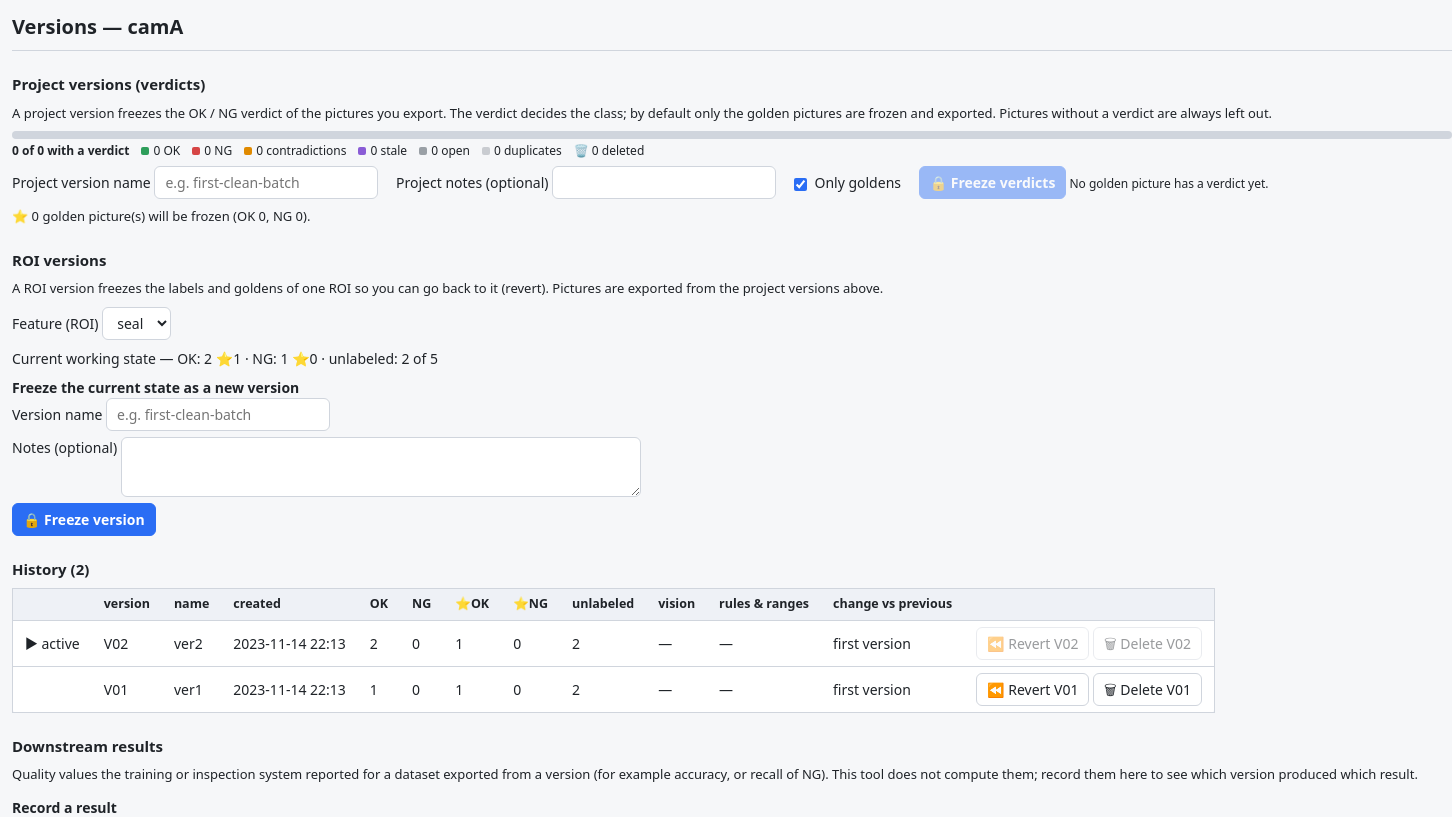
freeze posts feature, name and notes and reloads
expect the heading "History (2)" is shown: met, box x1=12 y1=558 x2=89 y2=578
Type "batch1" into the field labelled "Version name" at (218, 414), box x1=106 y1=398 x2=330 y2=430
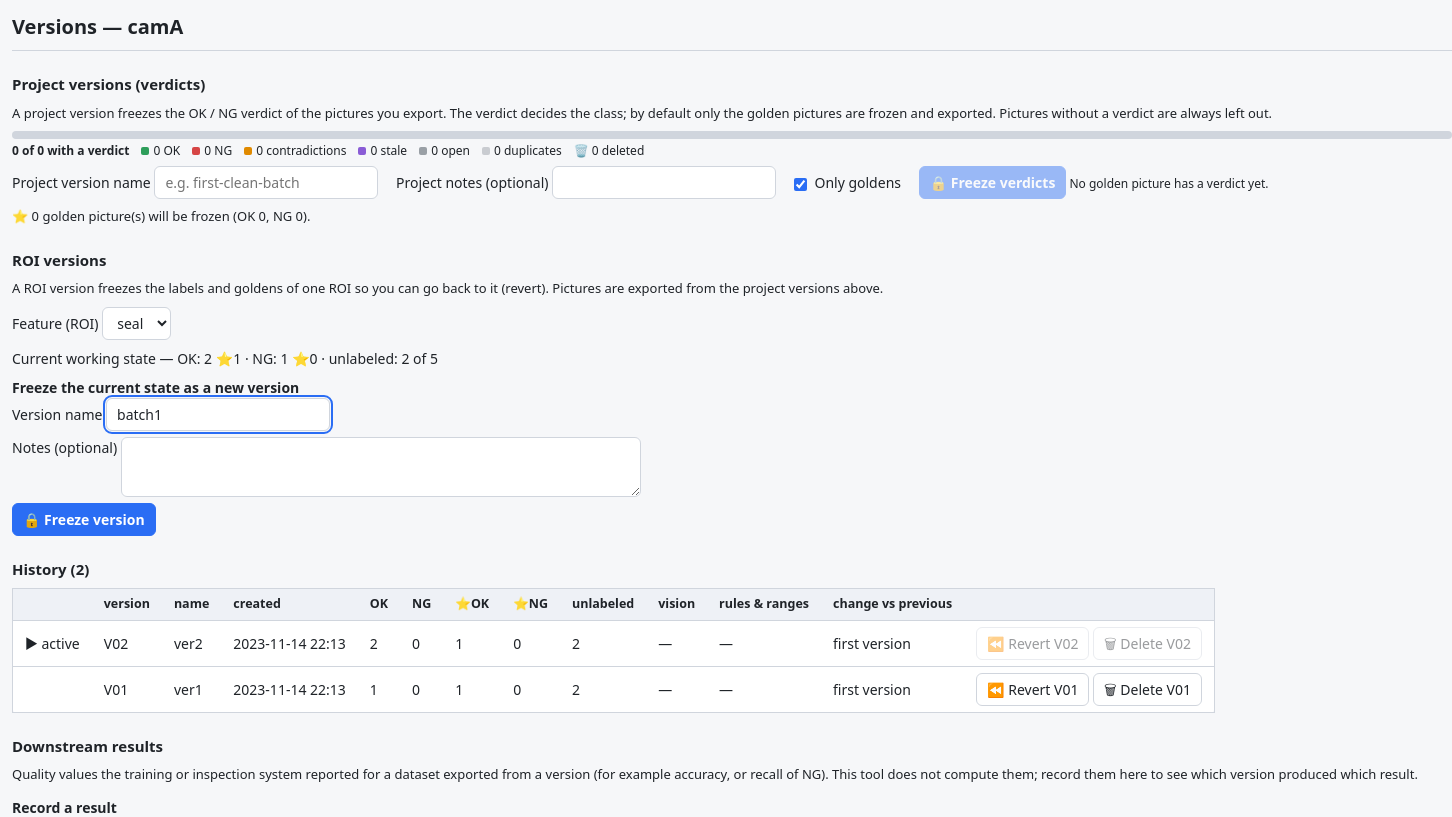
Type "why" into the text box labelled "Notes (optional)" at (381, 466), box x1=121 y1=436 x2=641 y2=496
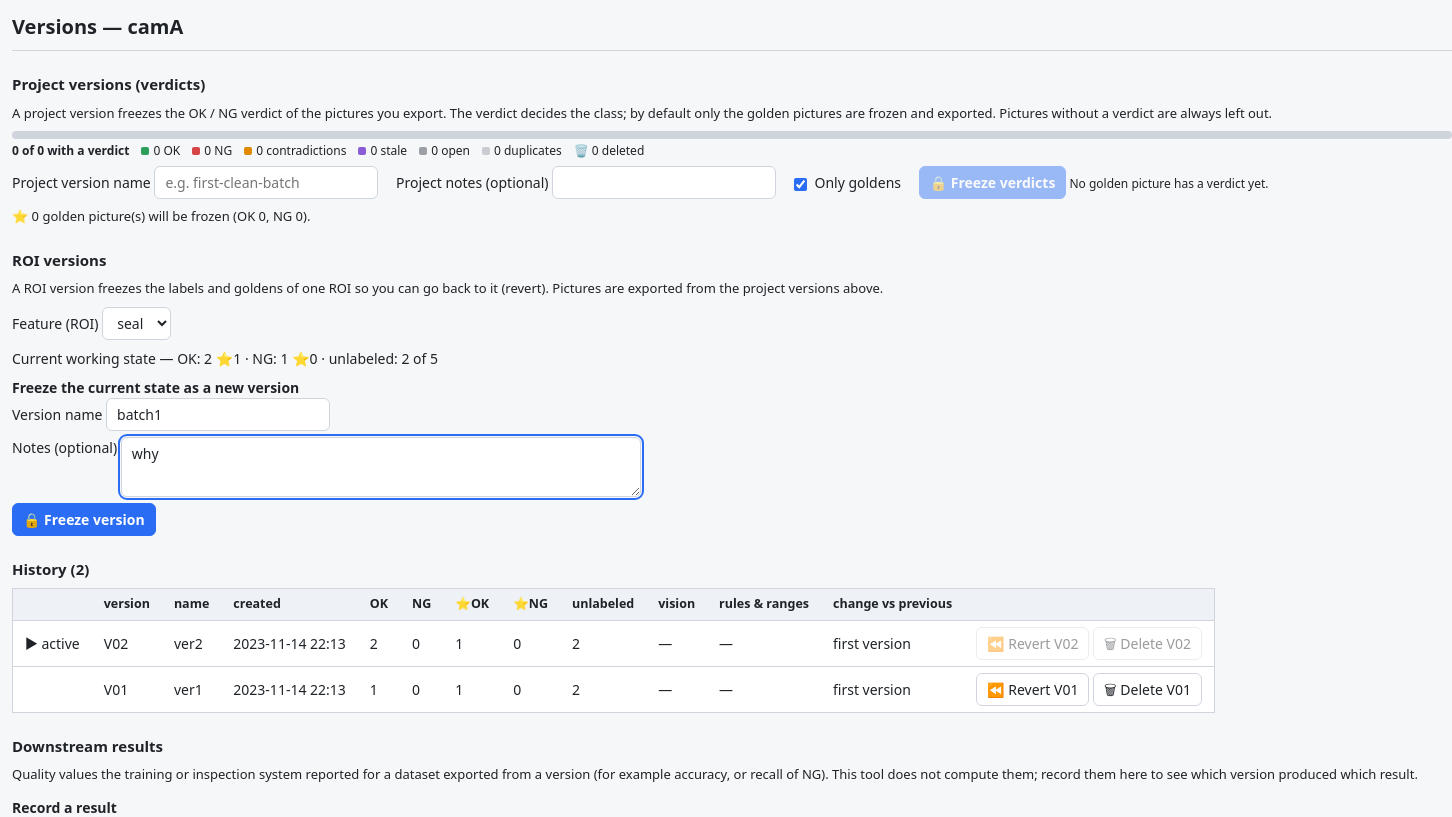
Click the button "🔒 Freeze version" at (84, 519), box x1=12 y1=502 x2=156 y2=536
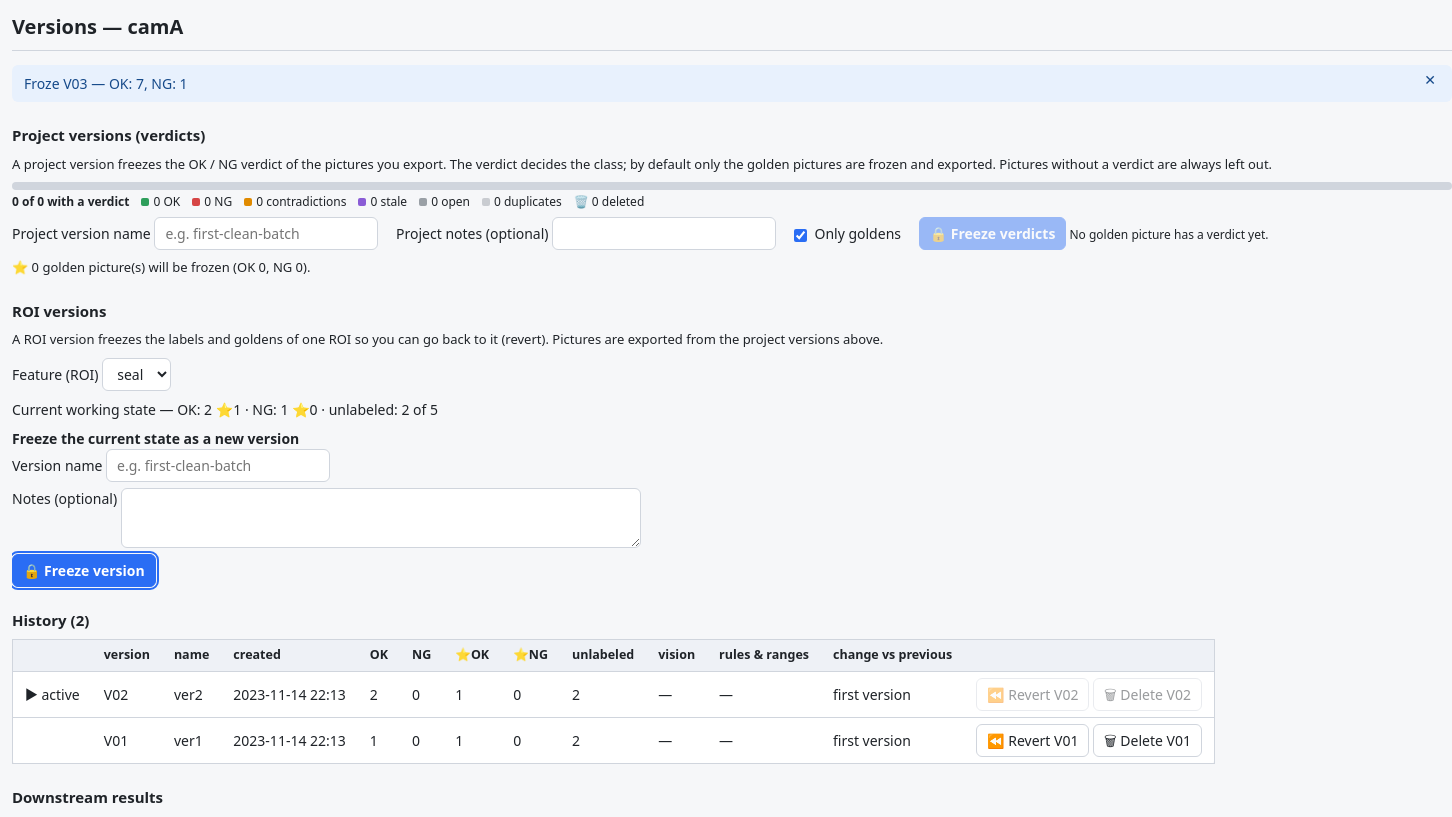
expect the text "Froze V03 — OK: 7, NG: 1" is shown: met, box x1=24 y1=74 x2=188 y2=93
